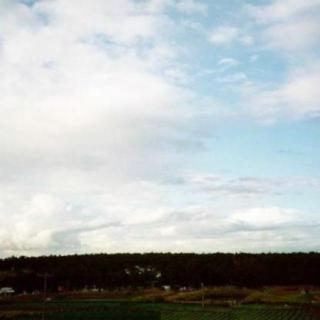Stratocumulus: (0, 0, 320, 247)
